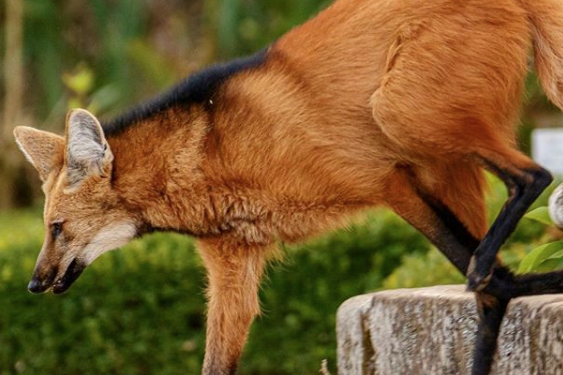LoboGuara: (7, 9, 554, 366)
